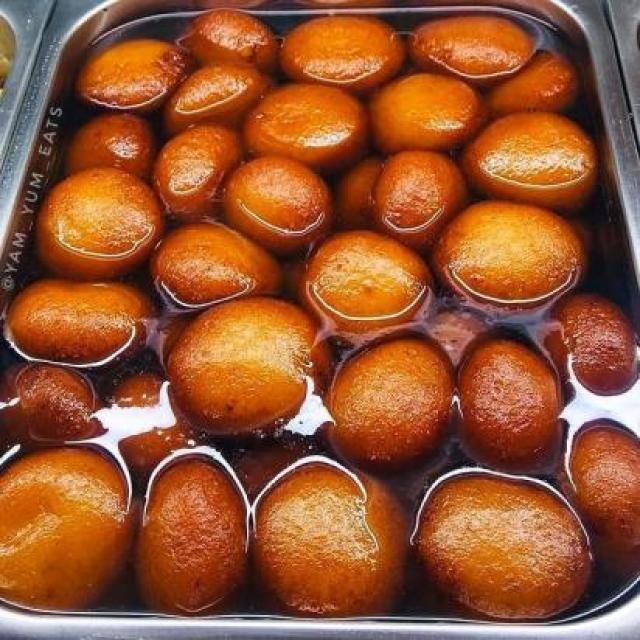gulab_jamun: (410, 470, 594, 622), (249, 458, 406, 612), (166, 293, 330, 436), (0, 442, 127, 612), (130, 448, 246, 614), (322, 332, 456, 461), (433, 202, 584, 308), (456, 333, 564, 467), (34, 167, 166, 276), (7, 278, 155, 366), (302, 231, 428, 334), (462, 108, 597, 204), (148, 220, 282, 310), (561, 422, 640, 574), (225, 152, 333, 252), (240, 84, 366, 168), (366, 70, 486, 148), (370, 149, 468, 244), (546, 290, 636, 393), (277, 15, 403, 86), (148, 126, 246, 217), (402, 12, 539, 76), (0, 360, 95, 444), (75, 34, 182, 104), (163, 60, 270, 122), (481, 50, 582, 112), (178, 5, 276, 64), (65, 111, 152, 169)
